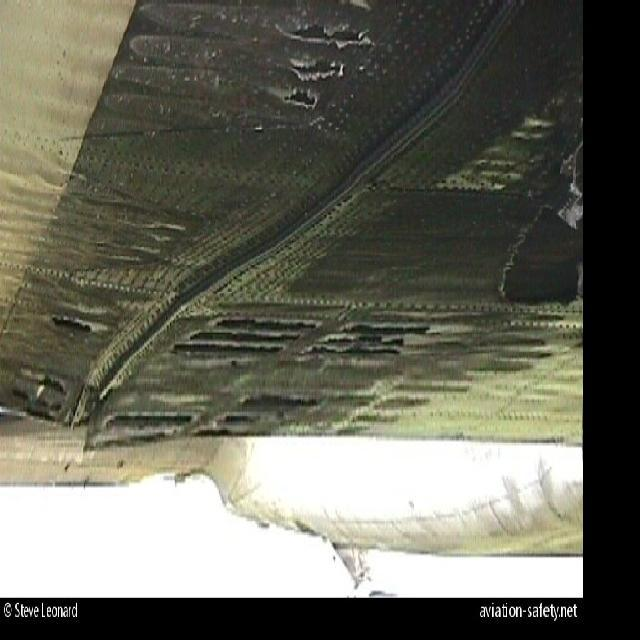crack: (270, 16, 374, 115)
